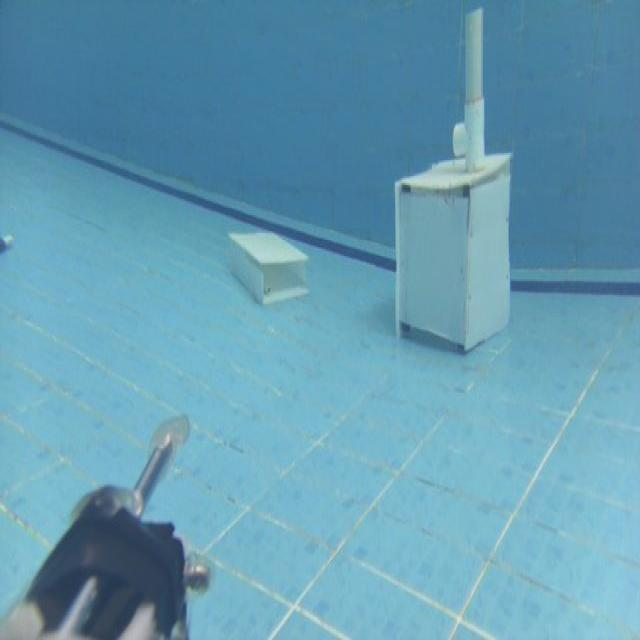Cube: (378, 138, 522, 358)
Cuboid: (226, 228, 309, 306)
